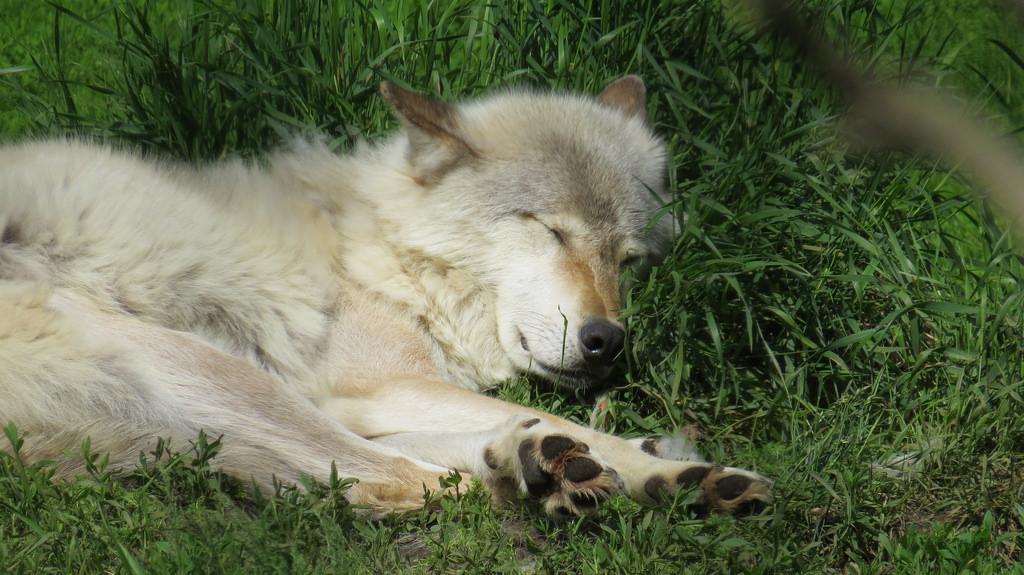Wolf: (1, 75, 778, 527)
